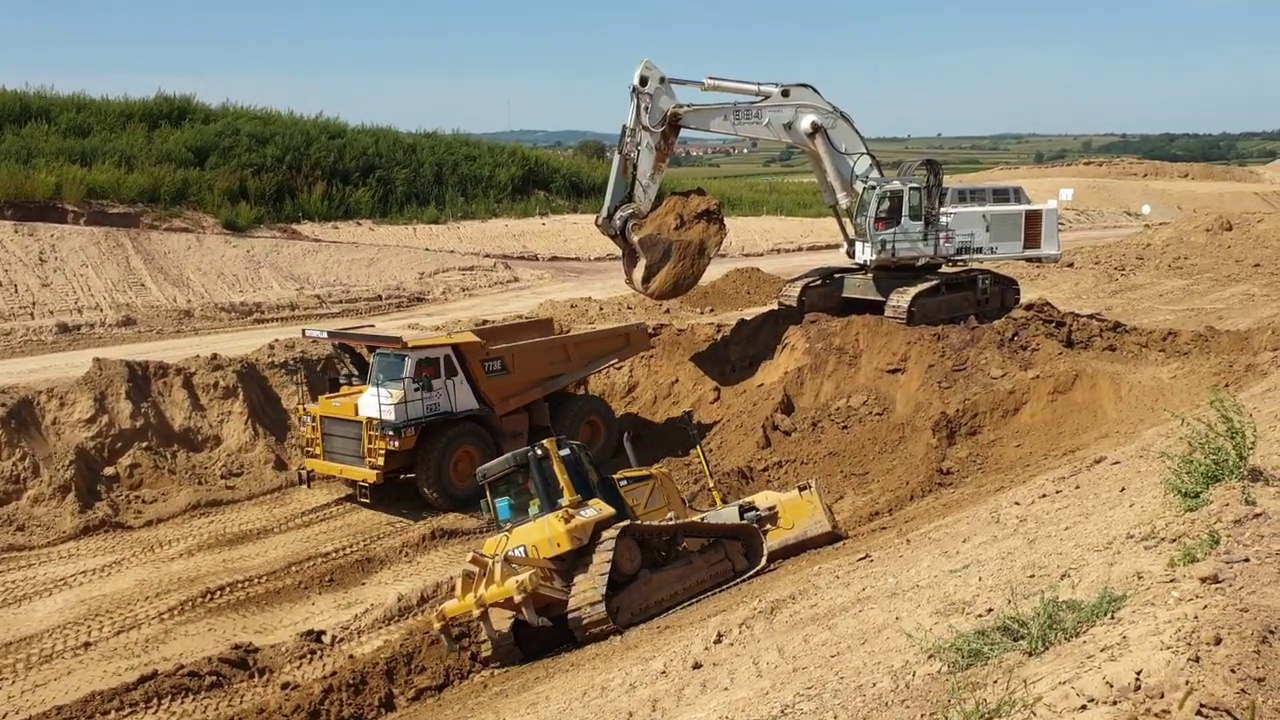bulldozer: (429, 417, 849, 672)
excavator: (591, 54, 1070, 330)
truck: (294, 313, 661, 517)
